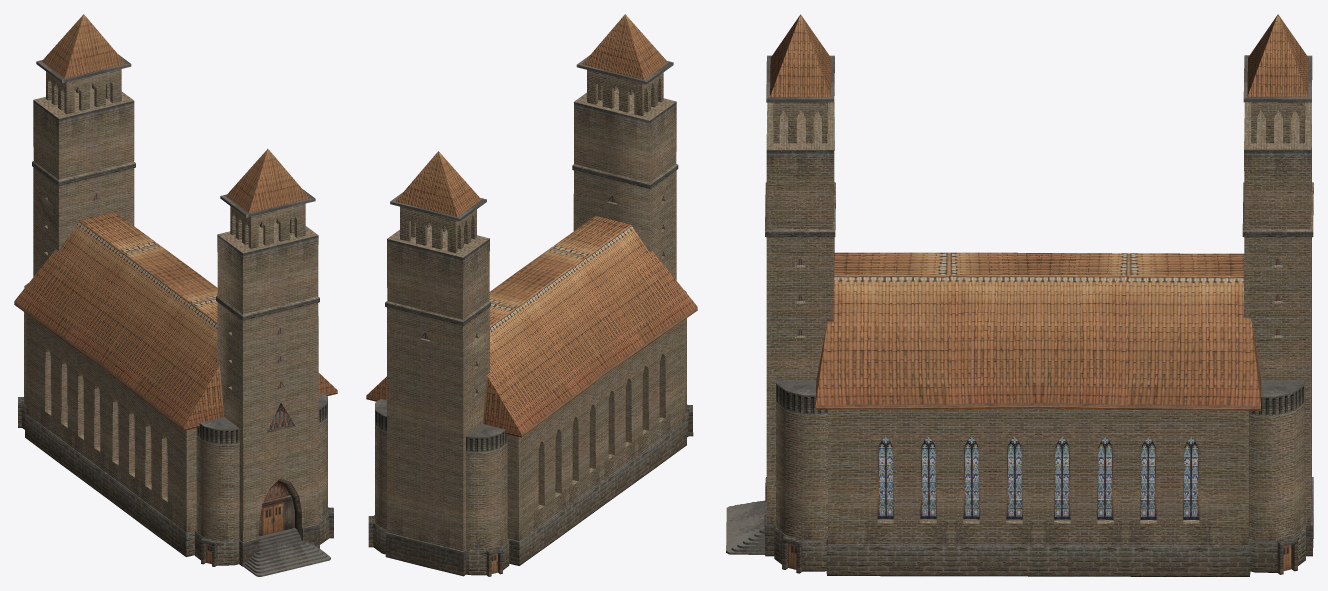
The model's file is Church02.FBX.
The picture shows the model from 3 angles, left to right: view 1: azimuth 30°, elevation 25°; view 2: azimuth 150°, elevation 25°; view 3: azimuth 270°, elevation 25°; orthographic projection. The views are drawn at different scales.
Visible parts, largest first — view 1: Church02; view 2: Church02; view 3: Church02.
Boxes of the visible parts, x1,y1,x2,y2 form: Church02: (14,14,337,576); Church02: (366,14,697,576); Church02: (726,14,1313,576).
Bounding box in the file's own units: 16.62 × 40.87 × 42.04.
Materials: 1 (1 with a texture image).
